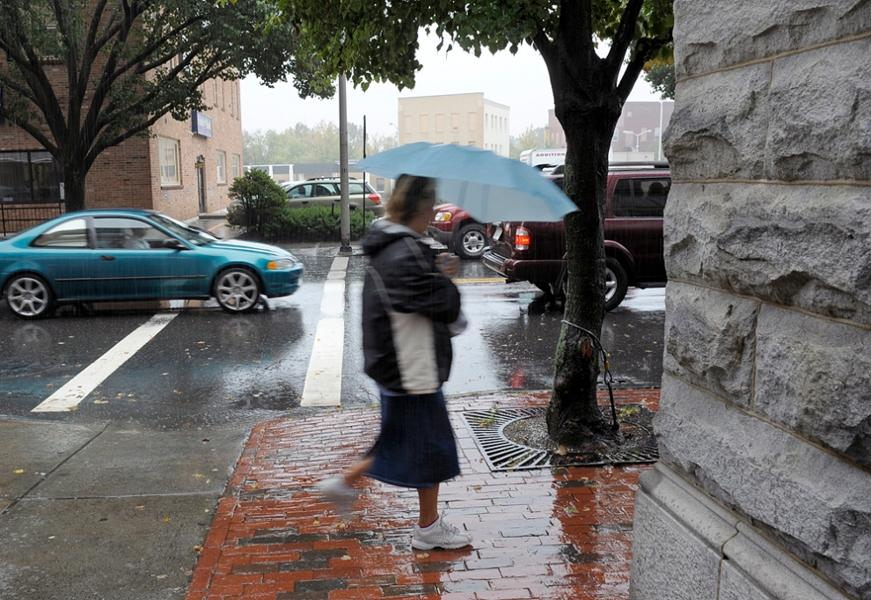person: (318, 173, 473, 552)
